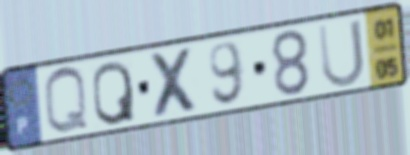8: (269, 27, 312, 98)
9: (207, 40, 248, 107)
Q: (41, 64, 92, 138), (90, 57, 138, 128)
U: (315, 16, 368, 91)
X: (146, 45, 204, 121)
